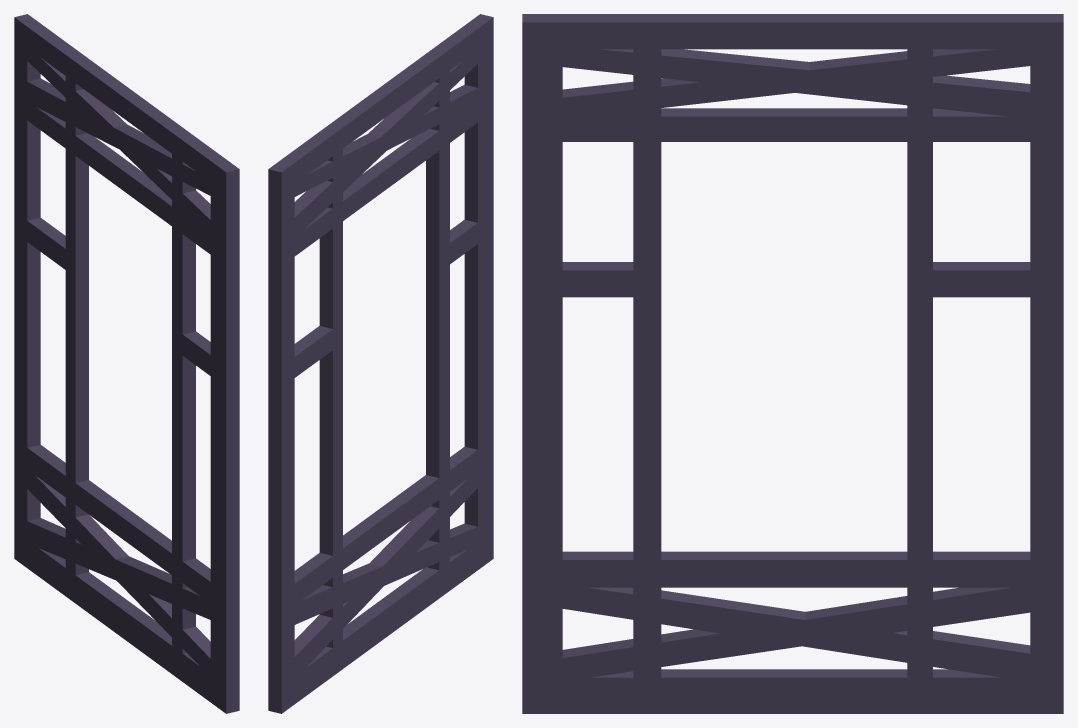
File: LongFrame2.fbx
3 views of the same model, side by side, from view 1: azimuth 30°, elevation 25°; view 2: azimuth 150°, elevation 25°; view 3: azimuth 270°, elevation 25° (orthographic). The views are drawn at different scales.
Visible parts, largest first — view 1: LongFrame2; view 2: LongFrame2; view 3: LongFrame2.
Boxes of the visible parts, x1,y1,x2,y2 form: LongFrame2: (14,14,239,713); LongFrame2: (268,14,493,713); LongFrame2: (522,14,1063,713).
Size of the model in its own units: 4.28 by 166 by 118.
